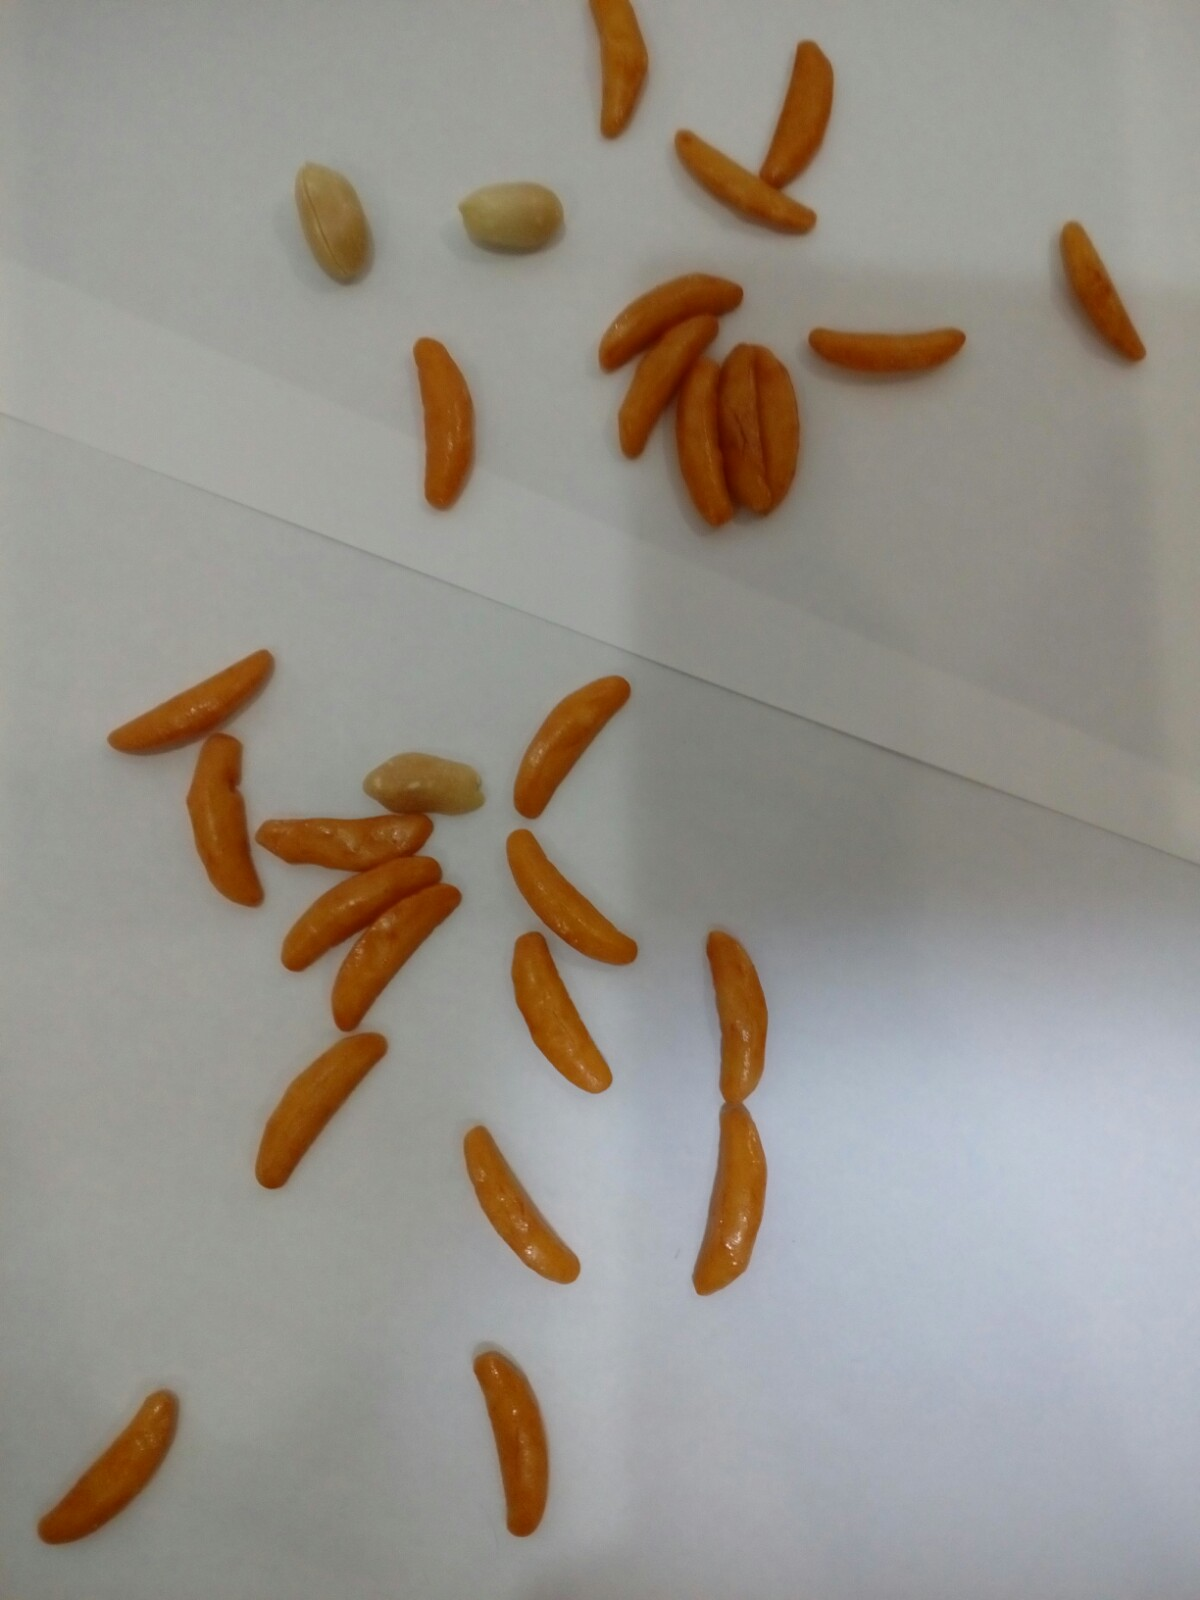peanut: (294, 152, 377, 297), (354, 748, 505, 816), (456, 174, 567, 265)
